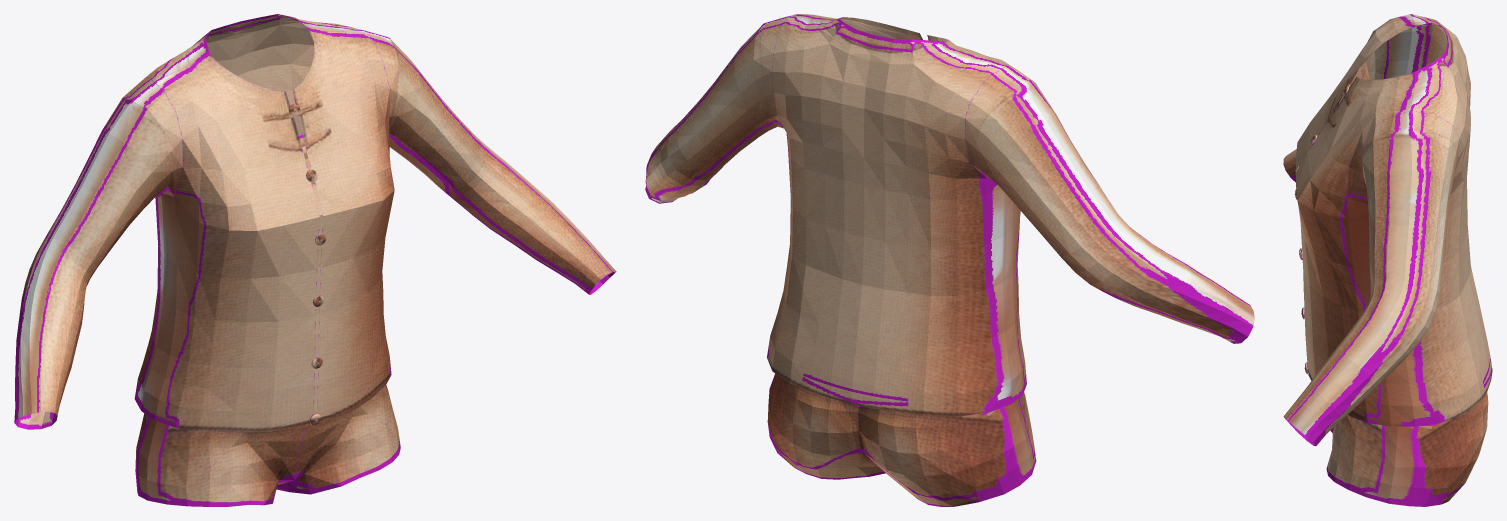
The picture shows the model from 3 angles, left to right: view 1: azimuth 30°, elevation 25°; view 2: azimuth 150°, elevation 25°; view 3: azimuth 270°, elevation 25°; orthographic projection. The views are drawn at different scales.
Size of the model in its own units: 1.16 by 0.8417 by 0.3722.
Materials: 1 (1 with a texture image).
